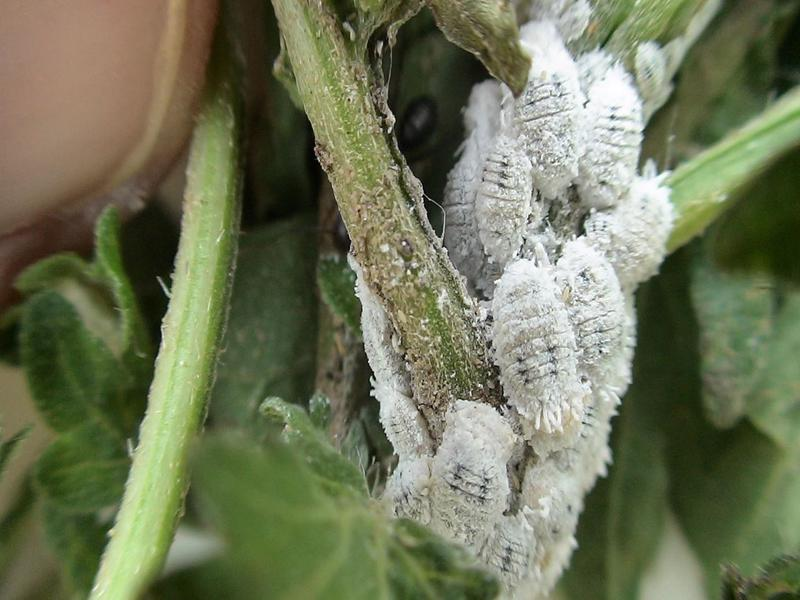Mealy_bug: (385, 28, 677, 570)
